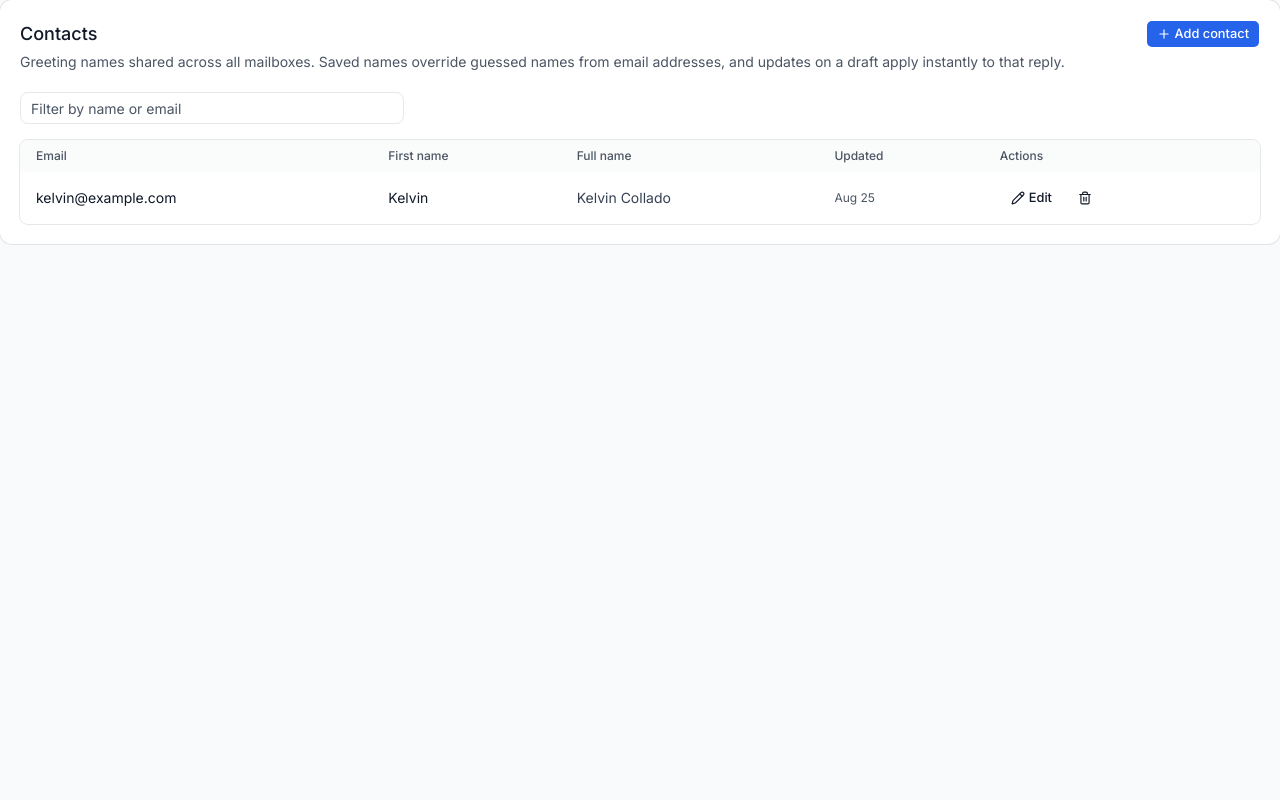
it: ContactsSection › prefills full name when editing a contact from Settings
The width and height of the screenshot is (1280, 800).
Check: the text "Kelvin Collado" is shown, box [561, 172, 818, 224]
What coordinates should you click on to do the following:
click the button with aria-label "Edit contact kelvin@example.com"
I would click on:
 (1031, 198)
Its box is [1000, 184, 1063, 212].
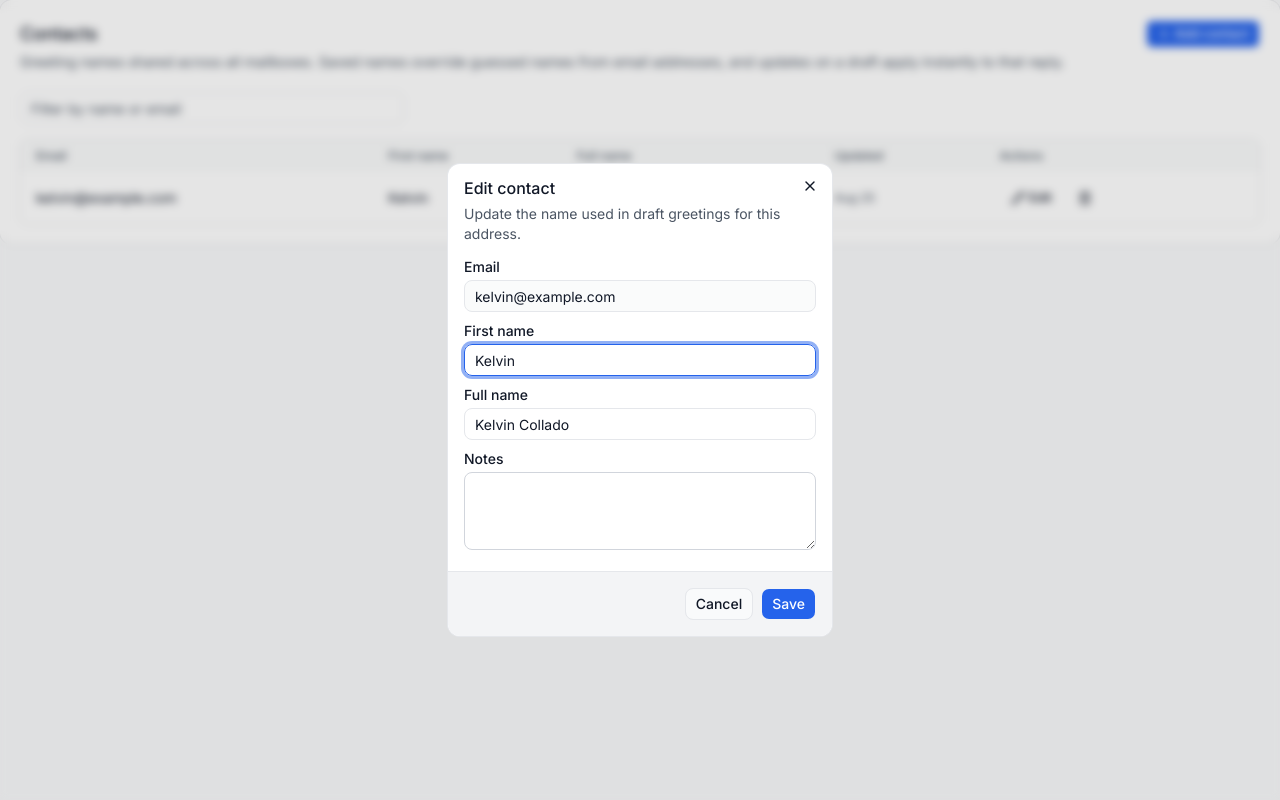
Check: the field named "Contact first name" holds "Kelvin", box [464, 344, 816, 376]
Check: the field named "Contact full name" holds "Kelvin Collado", box [464, 408, 816, 440]
